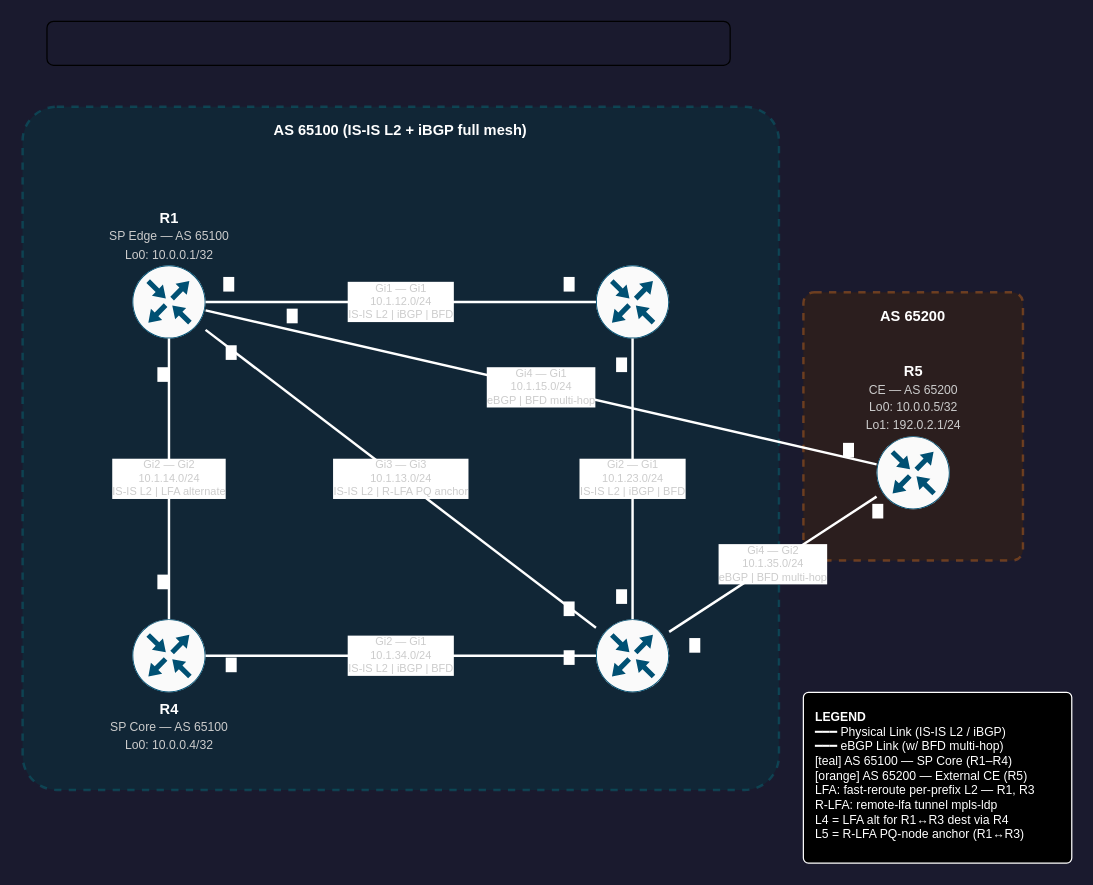
Image size: 1093x885. Some labels were removed from this diagram. The shapes that lost their labels are listed below. From the top down, each one's centre as x and y in pixels, then its label:
At point (388, 42): "Lab 02: IS-IS LFA and IP Fast Reroute".
At point (632, 301): "R2 SP Core — AS 65100 Lo0: 10.0.0.2/32".
At point (632, 655): "R3 SP Edge — AS 65100 Lo0: 10.0.0.3/32".
